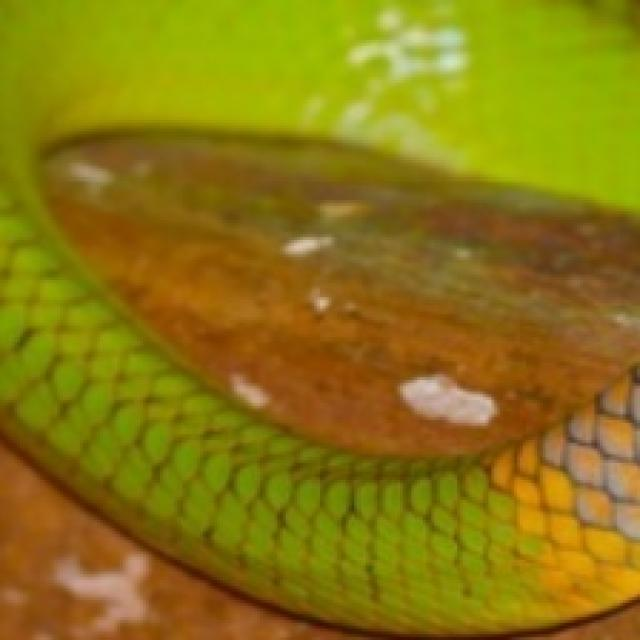red-tailed green ratsnake: (2, 0, 640, 631)
